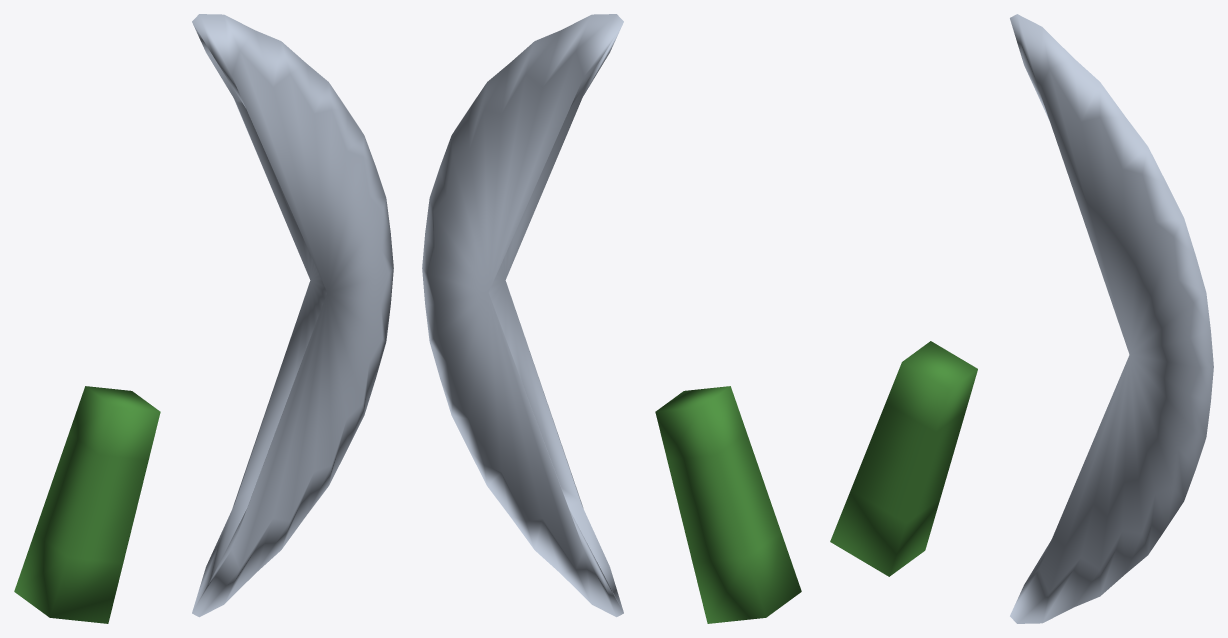
File: one_petal.glb
3 views of the same model, side by side, from view 1: azimuth 30°, elevation 25°; view 2: azimuth 150°, elevation 25°; view 3: azimuth 330°, elevation 25° (orthographic).
Visible parts, largest first — view 1: one_petal_glow, one_petal; view 2: one_petal_glow, one_petal; view 3: one_petal_glow, one_petal.
Part boxes in pixels (x1,y1,x2,y2): one_petal_glow: (192, 14, 393, 617); one_petal: (14, 386, 160, 623); one_petal_glow: (422, 14, 623, 617); one_petal: (655, 386, 801, 623); one_petal_glow: (1010, 14, 1213, 623); one_petal: (830, 341, 977, 576).
Size of the model in its own units: 0.1172 by 0.1867 by 0.02.
